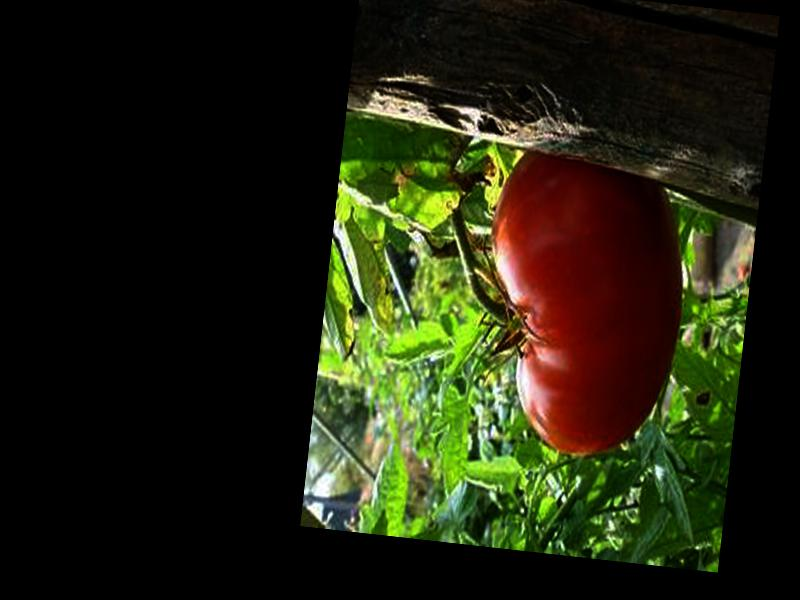Tomato: (468, 143, 695, 465)
